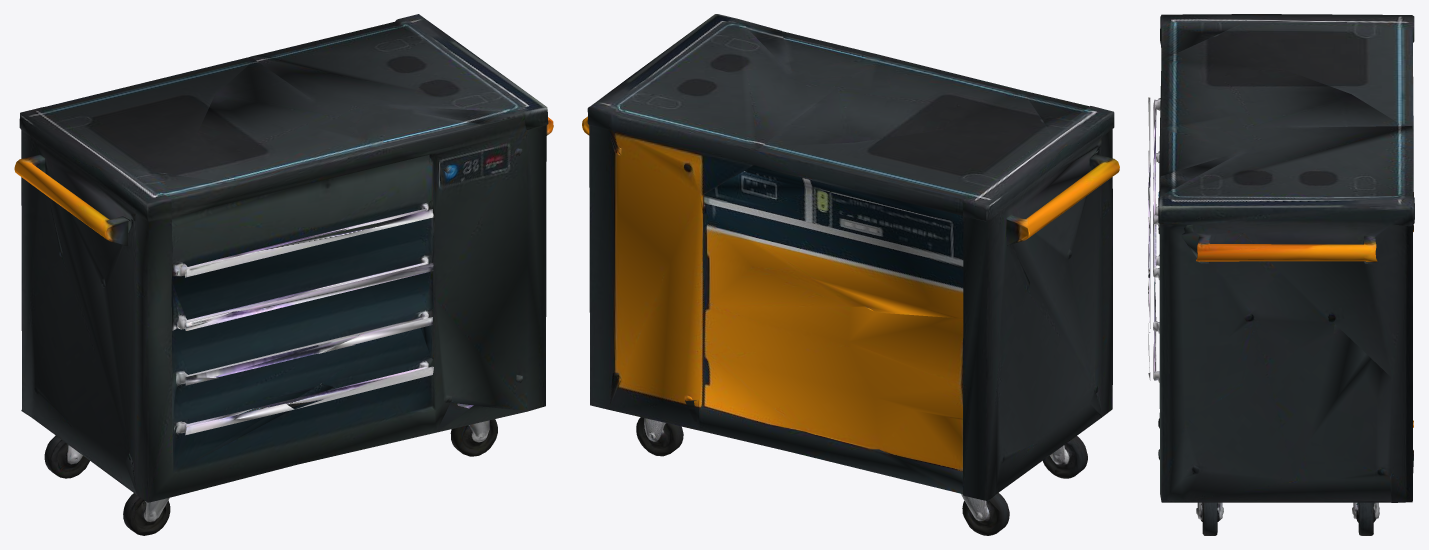
File: maintenance_tool_cart.glb
3 views of the same model, side by side, from view 1: azimuth 30°, elevation 25°; view 2: azimuth 150°, elevation 25°; view 3: azimuth 270°, elevation 25° (orthographic).
Size of the model in its own units: 1.9 by 1.43 by 0.9872.
Materials: 1 (1 with a texture image).
